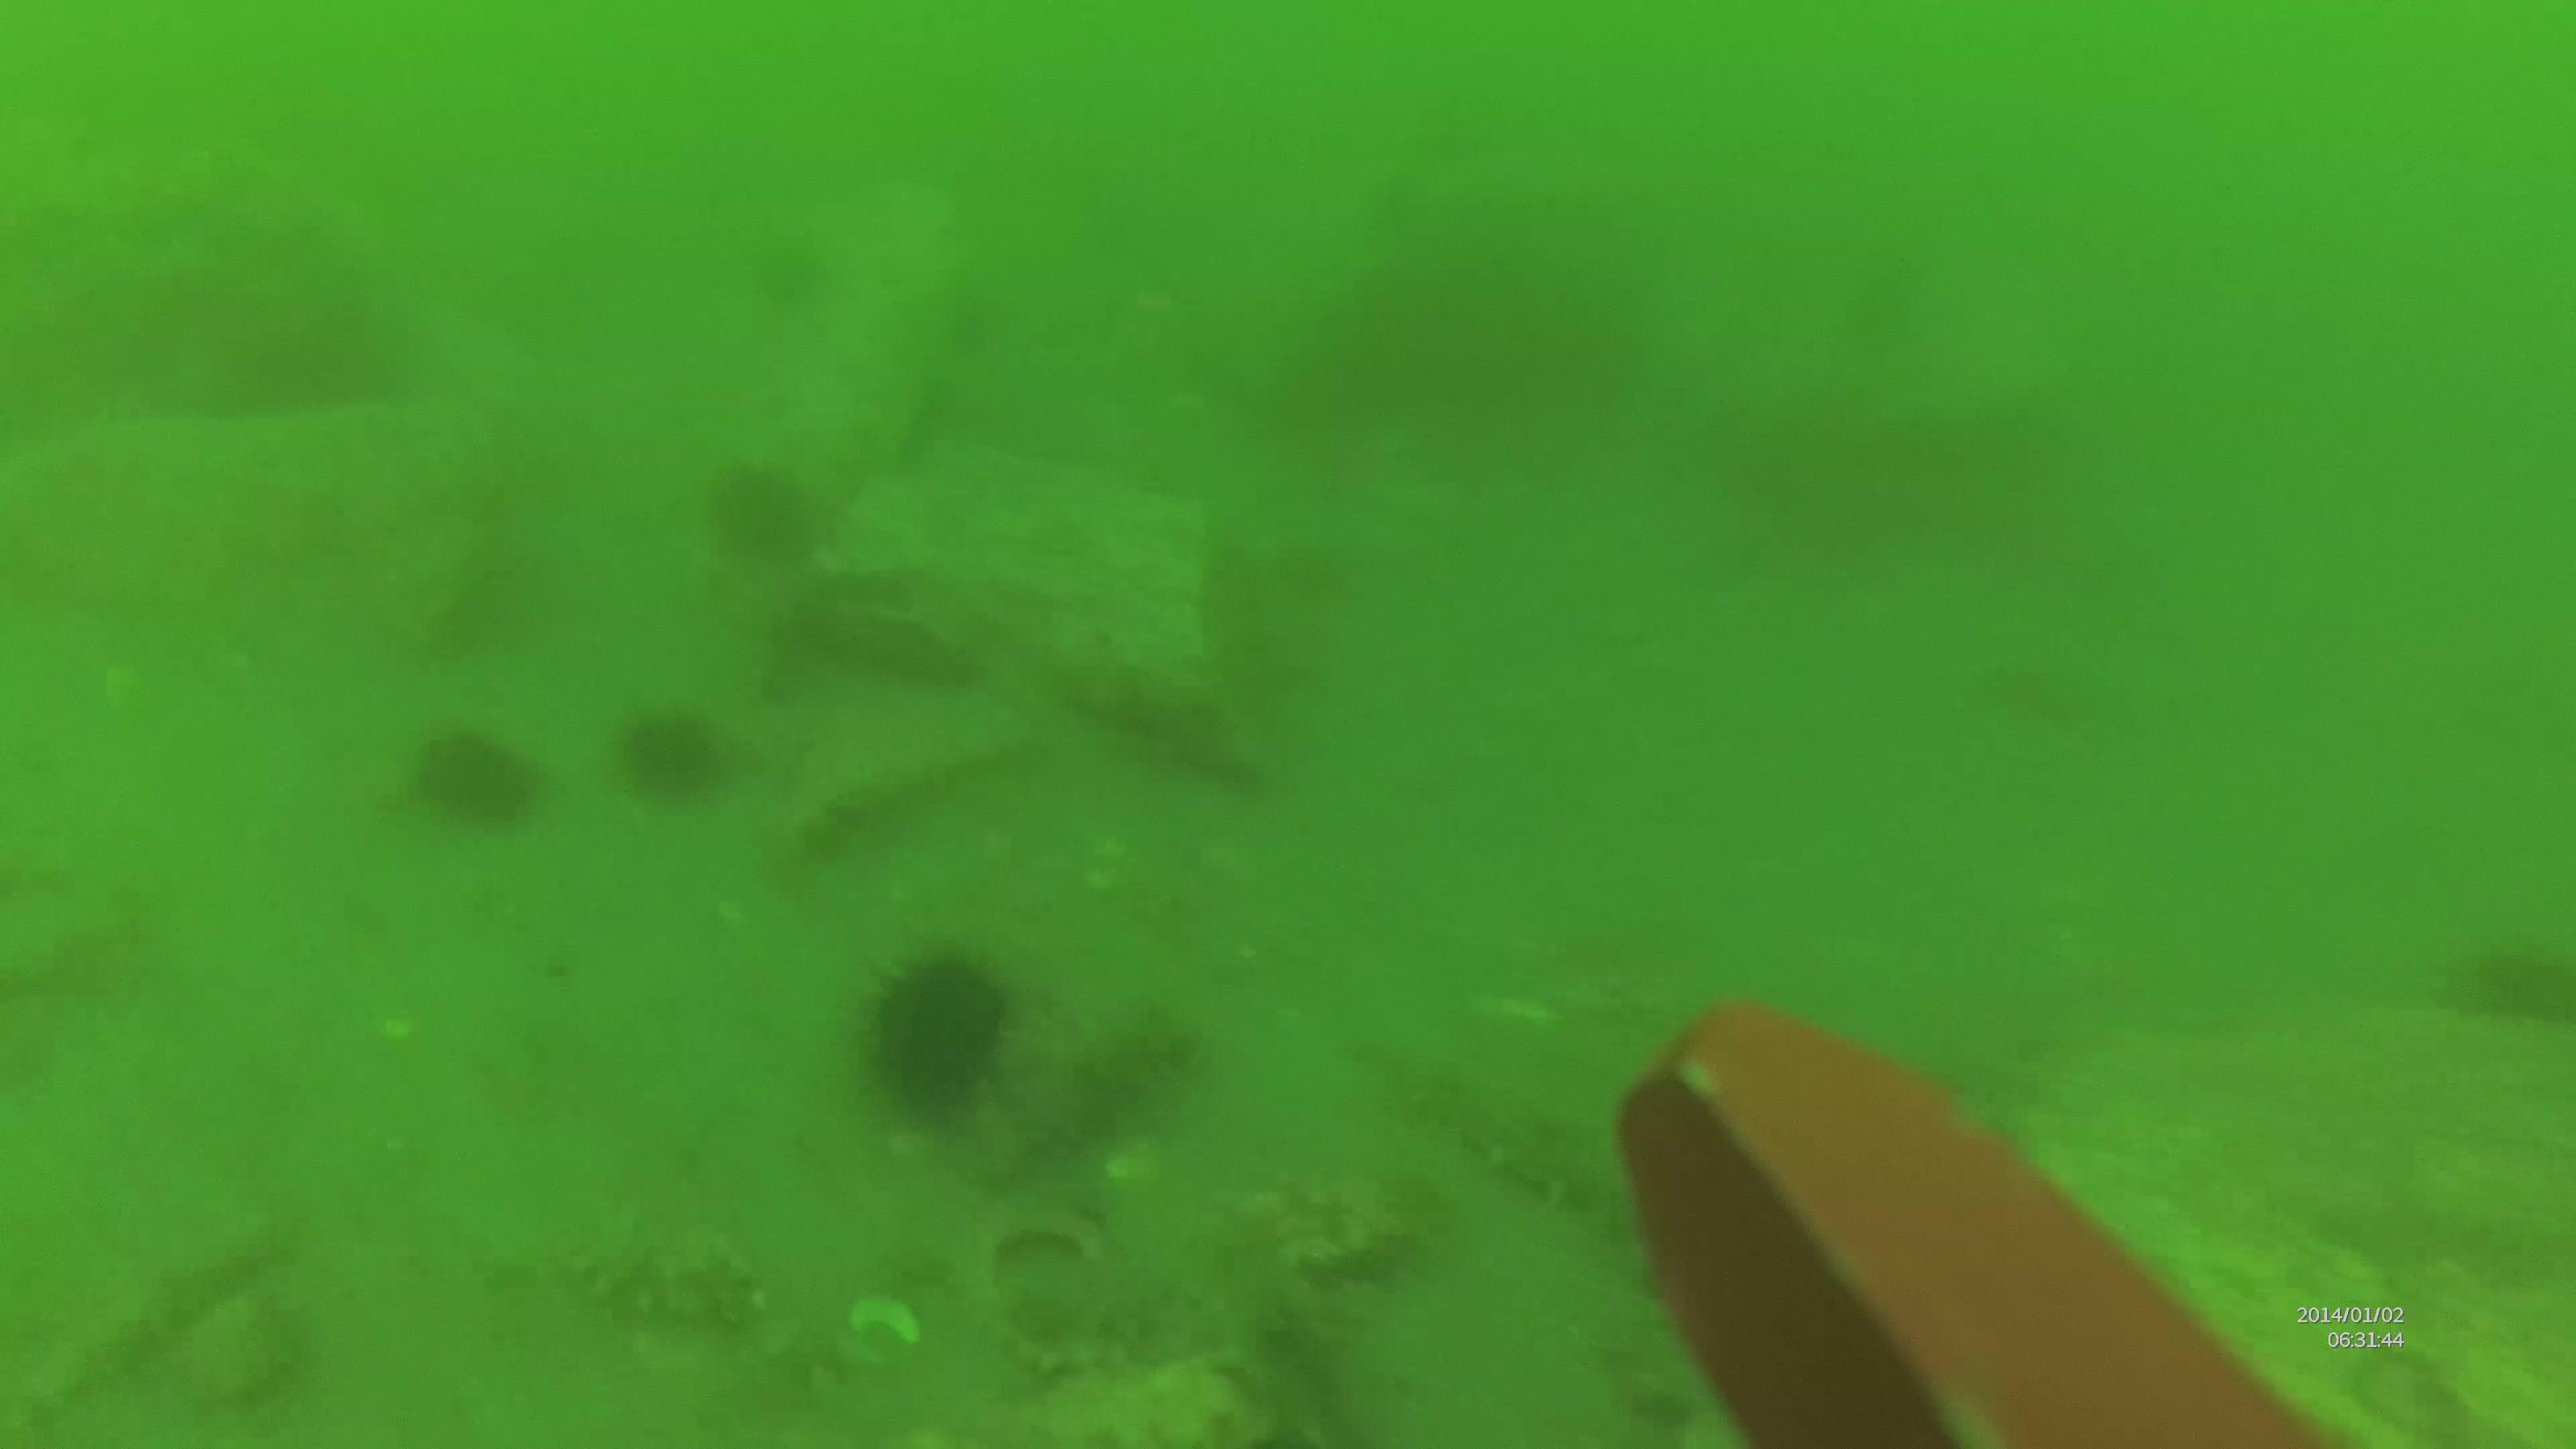echinus: (863, 941, 1014, 1138), (416, 727, 543, 830), (614, 704, 727, 809), (708, 467, 809, 556)
holothurian: (1361, 1024, 1697, 1244), (892, 1306, 1309, 1449)
